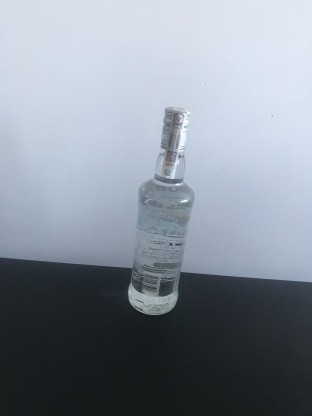nakretka: (158, 101, 192, 155)
